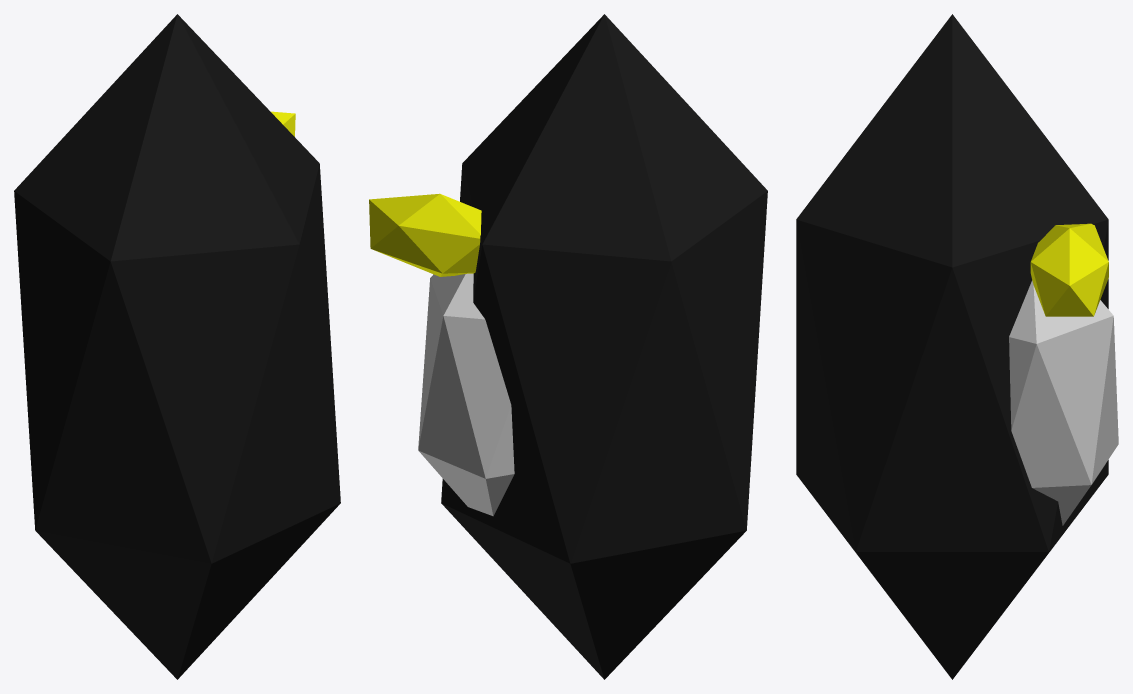
File: sluttypenguin.fbx
The picture shows the model from 3 angles, left to right: view 1: azimuth 30°, elevation 25°; view 2: azimuth 150°, elevation 25°; view 3: azimuth 270°, elevation 25°; orthographic projection.
Parts seen in each view (by area): view 1: Icosphere; view 2: Icosphere, Icosphere.001, Icosphere.002; view 3: Icosphere, Icosphere.001, Icosphere.002.
Part boxes in pixels (box(x1,y1,x2,y2)): Icosphere: box(14, 14, 340, 679); Icosphere: box(441, 14, 767, 679); Icosphere.001: box(418, 273, 514, 516); Icosphere.002: box(369, 193, 481, 276); Icosphere: box(796, 14, 1108, 679); Icosphere.001: box(1009, 280, 1118, 525); Icosphere.002: box(1030, 223, 1108, 316).
Bounding box in the file's own units: 201 × 400 × 176.
